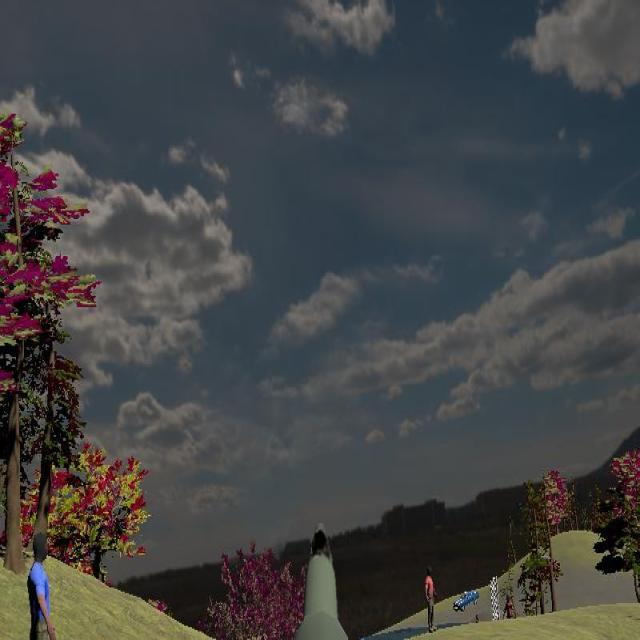Human: (27, 528, 58, 640), (425, 565, 437, 632)
car: (453, 590, 480, 612)
